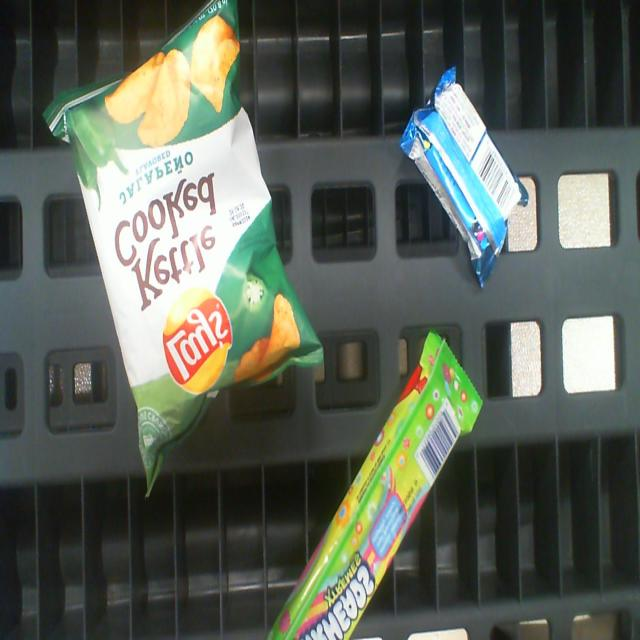snack: (43, 0, 324, 497), (263, 332, 482, 640), (403, 84, 525, 284)
